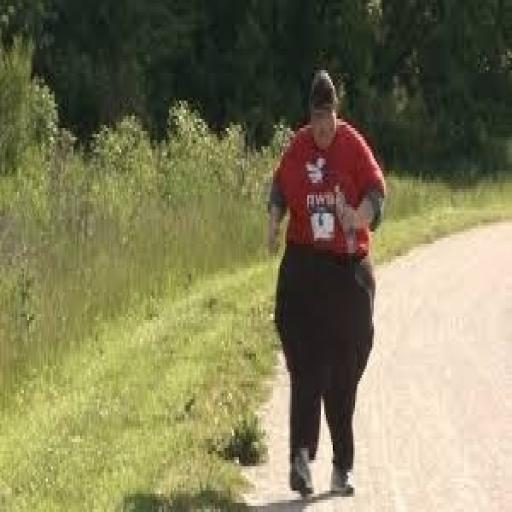running: (265, 67, 389, 500)
